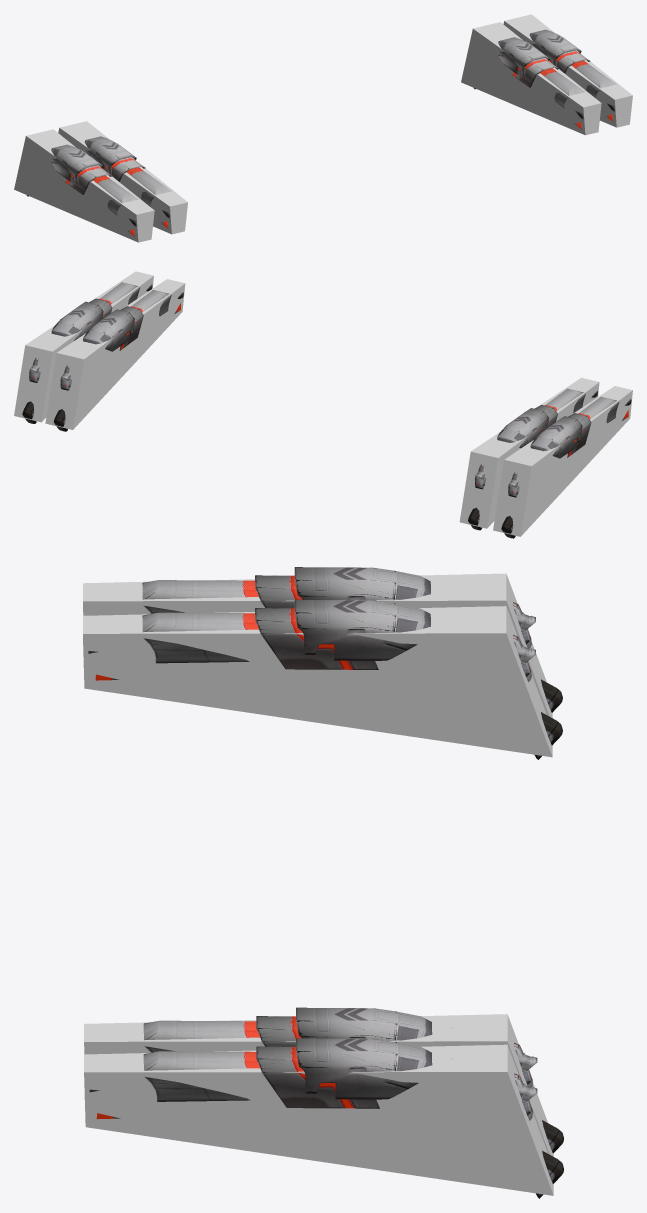
Rendered from yanluo_gun.FBX.
The picture shows the model from 3 angles, top to bottom: view 1: azimuth 30°, elevation 25°; view 2: azimuth 150°, elevation 25°; view 3: azimuth 270°, elevation 25°; orthographic projection. The views are drawn at different scales.
Parts seen in each view (by area): view 1: R2, L1, R1, L2, Point023, Point017, Point012, Point020, Point011, Point022, Point016, Point019 (+4 smaller); view 2: R2, L1, R1, L2, Point023, Point017, Point012, Point020, Point022, Point016, Point011, polySurface744 (+6 smaller); view 3: L2, R1, R2, L1, Point020, Point012, Point023, Point017, Point019, Point011, Point018, Point010 (+7 smaller).
Boxes of the visible parts, x1,y1,x2,y2 form: R2: (14, 129, 154, 242); L1: (461, 22, 601, 135); R1: (58, 121, 187, 234); L2: (503, 14, 632, 127); Point023: (49, 144, 103, 183); Point017: (495, 37, 549, 76); Point012: (82, 136, 136, 175); Point020: (527, 29, 581, 66); Point011: (127, 167, 171, 207); Point022: (93, 175, 138, 215); Point016: (540, 68, 584, 108); Point019: (571, 60, 616, 98); R2: (493, 386, 632, 536); L1: (45, 279, 185, 429); R1: (459, 377, 599, 528); L2: (14, 271, 153, 422); Point023: (530, 416, 582, 458); Point017: (83, 309, 134, 351); Point012: (497, 408, 548, 448); Point020: (51, 301, 103, 340); Point022: (578, 397, 619, 423); Point016: (131, 290, 171, 316); Point011: (545, 388, 585, 413); polySurface744: (501, 399, 631, 538); L2: (84, 1044, 553, 1195); R1: (83, 606, 552, 757); R2: (83, 573, 552, 717); L1: (84, 1014, 553, 1156); Point020: (296, 1038, 432, 1099); Point012: (294, 599, 430, 660); Point023: (294, 567, 430, 600); Point017: (296, 1007, 432, 1040); Point019: (143, 1051, 259, 1101); Point011: (142, 612, 258, 663); Point018: (256, 1046, 379, 1108); Point010: (255, 608, 378, 669).
Bounding box in the file's own units: 1.99 × 0.2929 × 0.8182.
